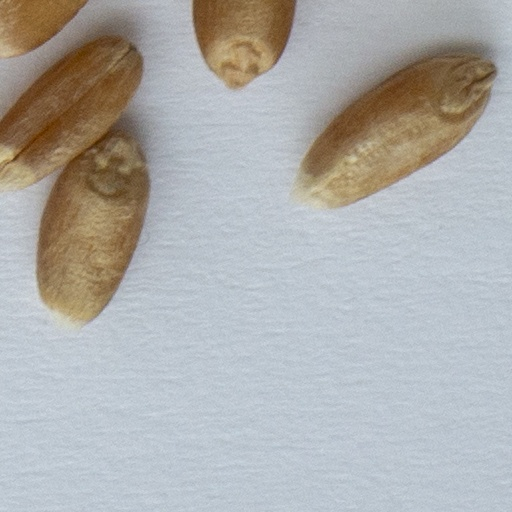Wheat-grain-poly: (292, 55, 496, 207)
